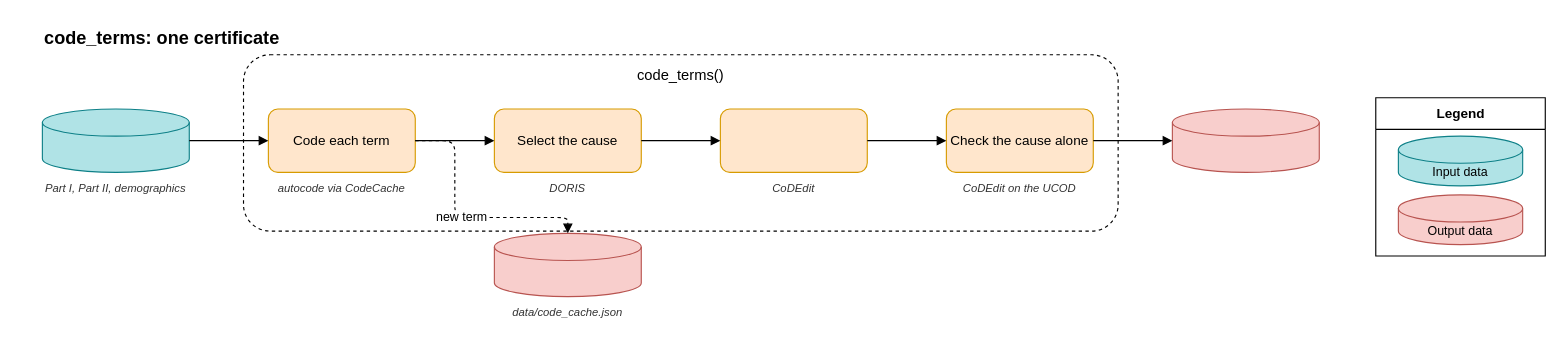
This 1565x351 diagram has some shape labels left out. Here are the shapes that lost their labels. From the top down, the centre of each, then its label:
[115,140]: Certificate
[793,140]: Check the certificate
[1245,140]: Coding
[567,264]: Term cache
